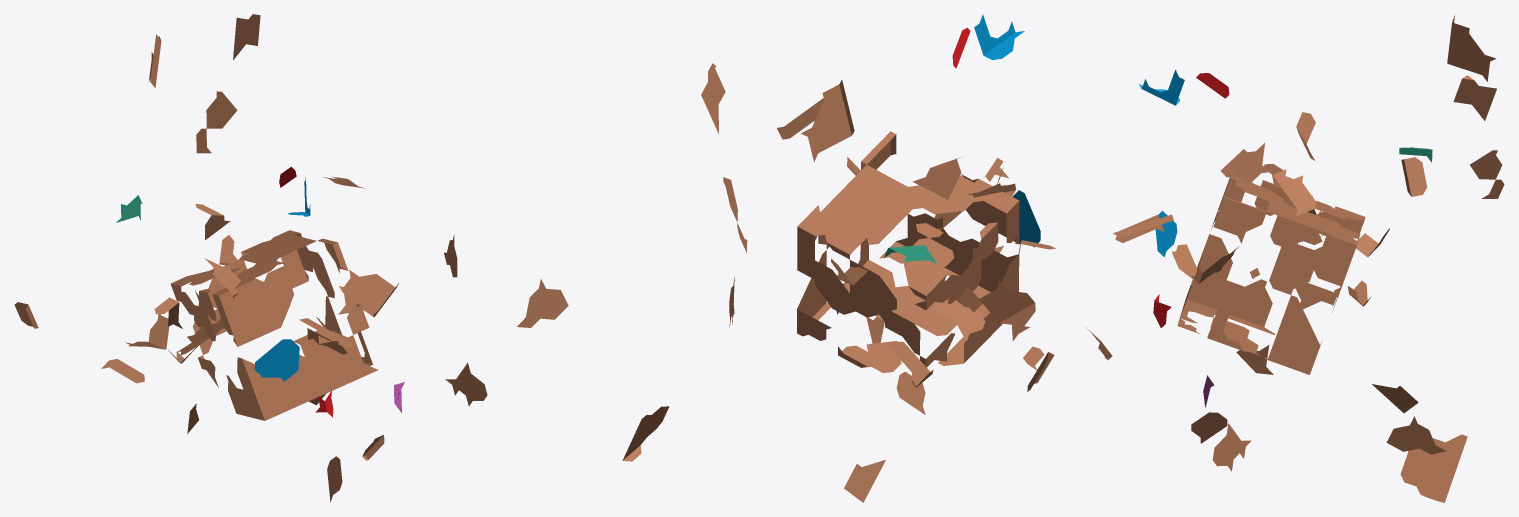
Rendered from explode_000084.obj.
The picture shows the model from 3 angles, left to right: view 1: azimuth 30°, elevation 25°; view 2: azimuth 150°, elevation 25°; view 3: azimuth 270°, elevation 25°; orthographic projection. The views are drawn at different scales.
Parts seen in each view (by area): view 1: Cube_Cube.001; view 2: Cube_Cube.001; view 3: Cube_Cube.001.
Boxes of the visible parts, x1=… form: Cube_Cube.001: x1=14, y1=14, x2=487, y2=502; Cube_Cube.001: x1=517, y1=14, x2=1055, y2=502; Cube_Cube.001: x1=1086, y1=15, x2=1504, y2=502.
Bounding box in the file's own units: 7.46 × 6.32 × 5.94.
